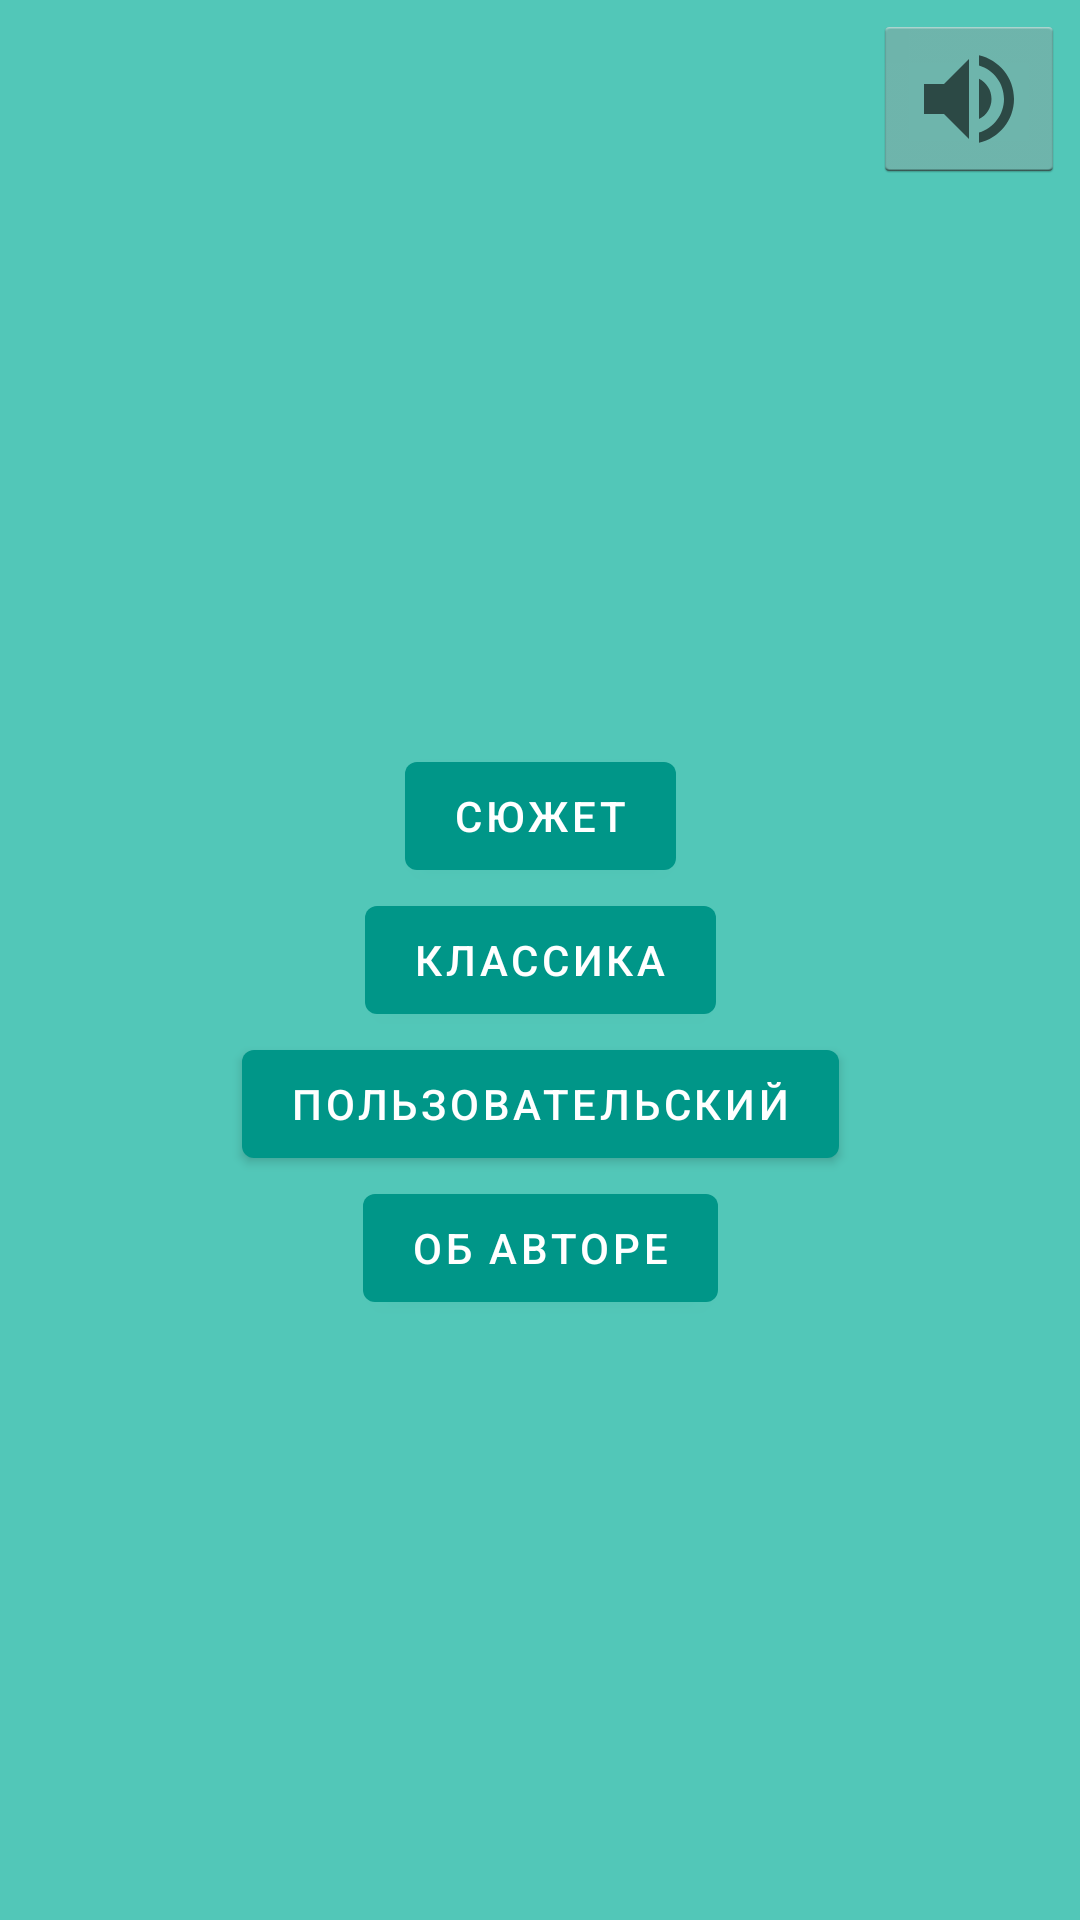

Icons on this 1080 x 1920 Android screen, each with the point to tap as point (x, y):
volume up: point (969, 99)
